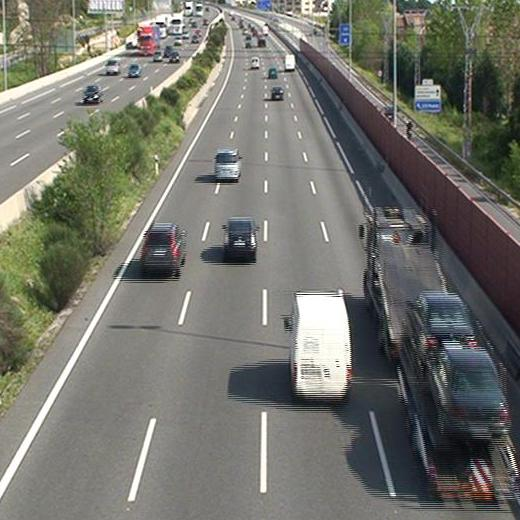car: (429, 350, 510, 442), (407, 293, 476, 368), (139, 224, 185, 277), (224, 218, 256, 256), (214, 150, 241, 179), (270, 87, 283, 100), (268, 69, 279, 79)
truck: (363, 208, 520, 497)
van: (285, 287, 353, 399), (284, 54, 295, 70), (250, 57, 259, 68)
